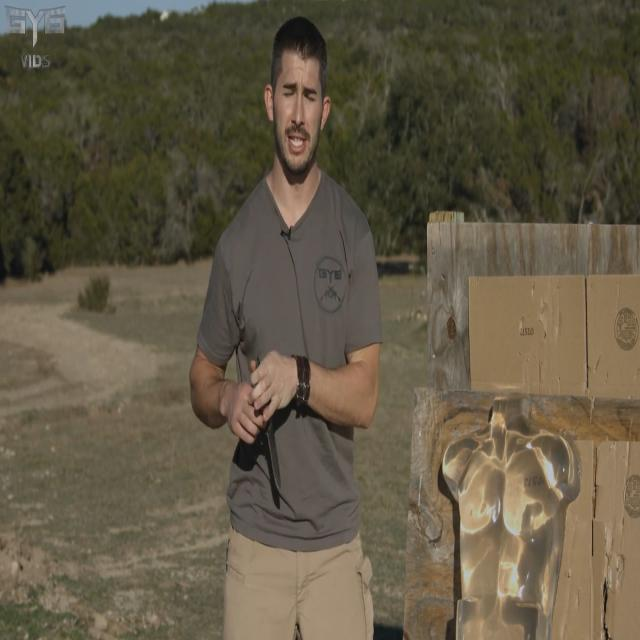knife: (263, 421, 287, 499)
